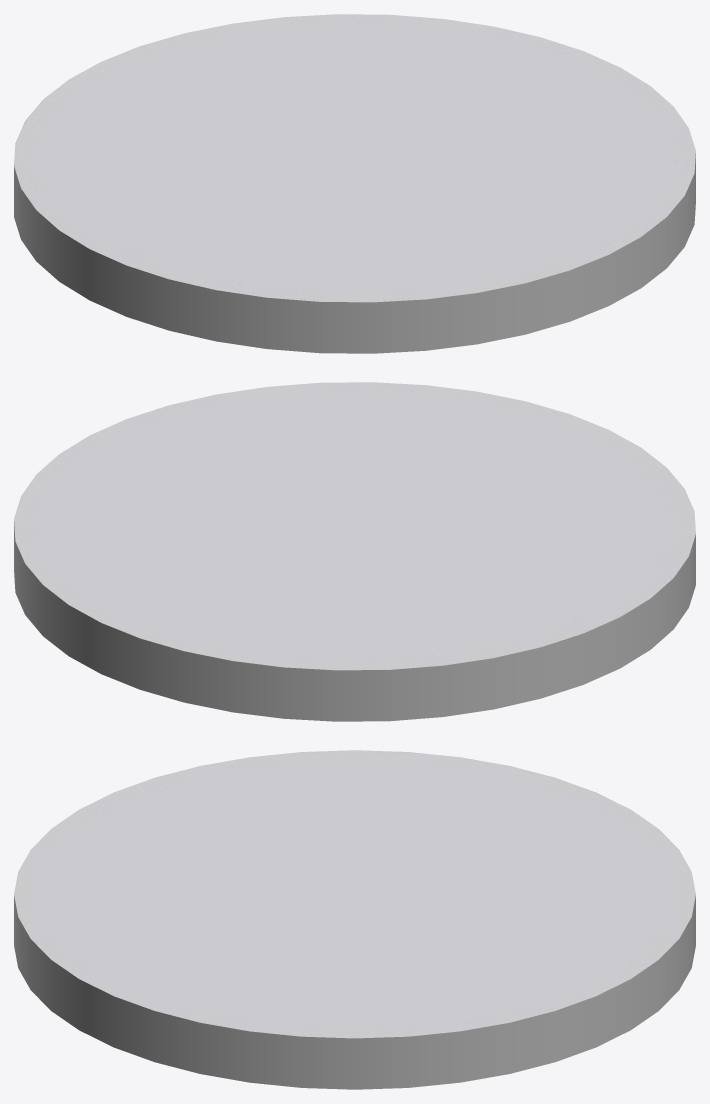
Rendered from plate01.FBX.
3 views of the same model, one above another, from view 1: azimuth 30°, elevation 25°; view 2: azimuth 150°, elevation 25°; view 3: azimuth 270°, elevation 25° (orthographic).
Visible parts, largest first — view 1: Cylinder001; view 2: Cylinder001; view 3: Cylinder001.
Boxes of the visible parts, <box> form: Cylinder001: <box>14,14,695,353</box>; Cylinder001: <box>14,382,695,721</box>; Cylinder001: <box>14,750,695,1089</box>.
Size of the model in its own units: 119 by 9.84 by 119.
Materials: 1 (1 with a texture image).
